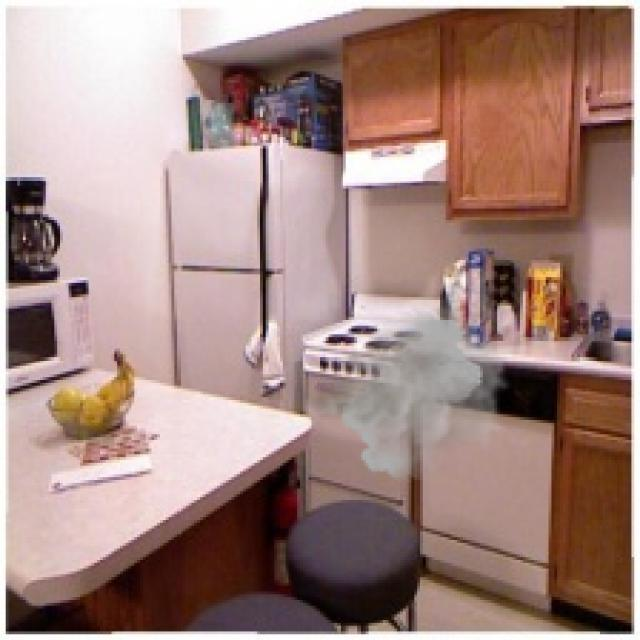Smoke: (299, 283, 512, 483)
